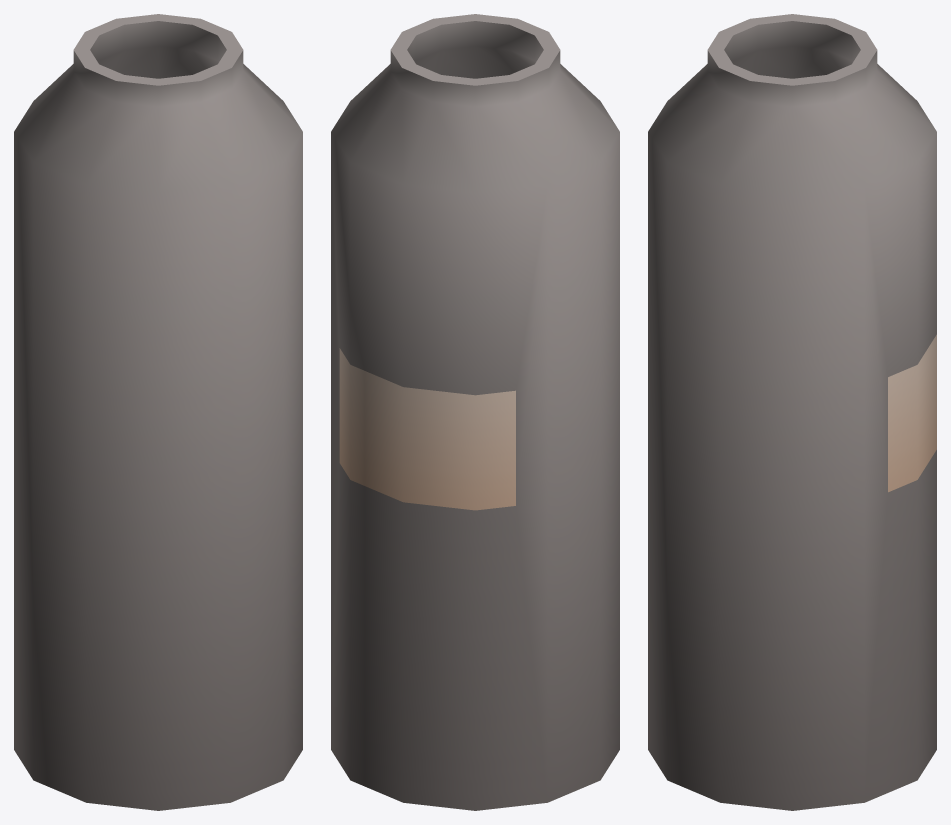
The model's file is JarOpaque2.fbx.
3 renders of one model, left to right at view 1: azimuth 30°, elevation 25°; view 2: azimuth 150°, elevation 25°; view 3: azimuth 270°, elevation 25°, orthographic.
Parts seen in each view (by area): view 1: JarOpaque2; view 2: JarOpaque2; view 3: JarOpaque2.
Boxes of the visible parts, x1,y1,x2,y2 form: JarOpaque2: (14, 14, 302, 810); JarOpaque2: (331, 14, 619, 810); JarOpaque2: (648, 14, 936, 810).
Bounding box in the file's own units: 7.47 × 19.98 × 7.47.
